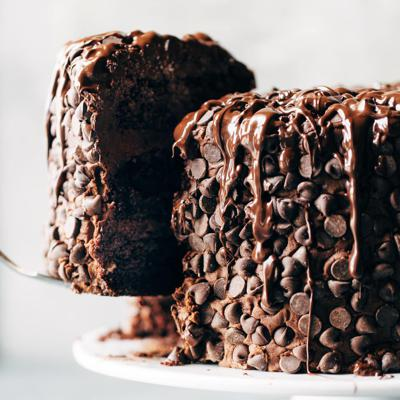cake: (44, 26, 399, 383)
